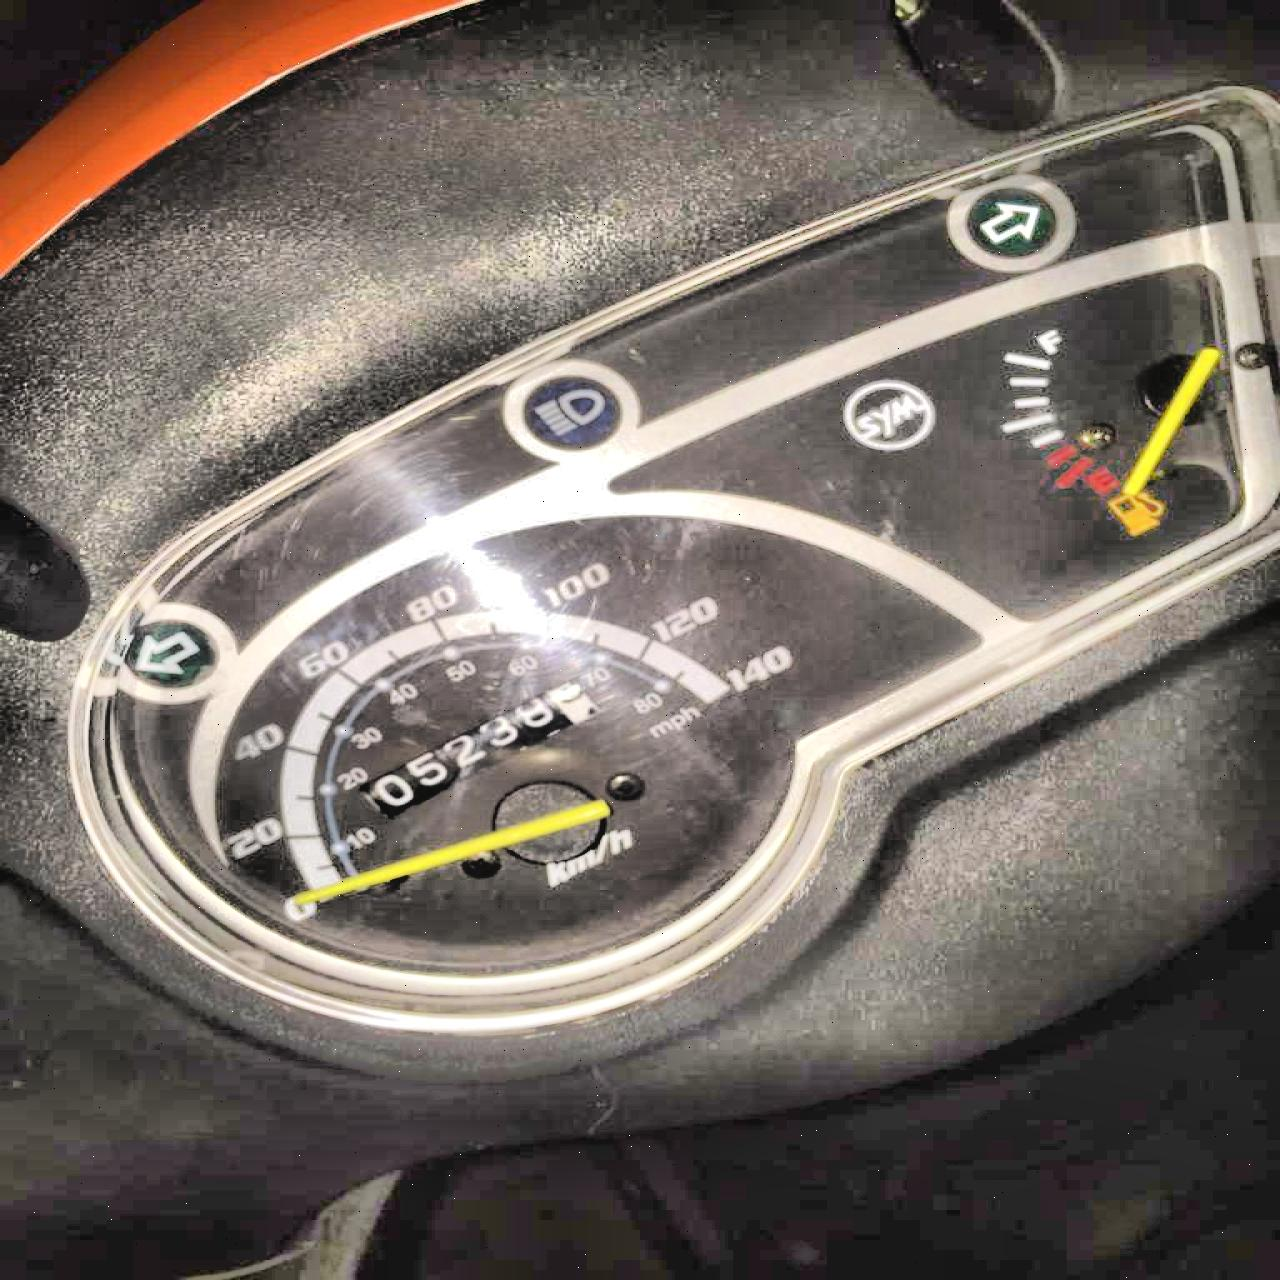0: (370, 772, 411, 806), (399, 681, 417, 697), (352, 765, 367, 784), (363, 726, 380, 741)
2: (442, 733, 483, 767)
3: (478, 714, 517, 745), (550, 675, 581, 704), (352, 731, 368, 749)
4: (384, 688, 403, 703)
5: (406, 750, 445, 787)
8: (513, 695, 552, 727)
odometer: (350, 676, 610, 822)
